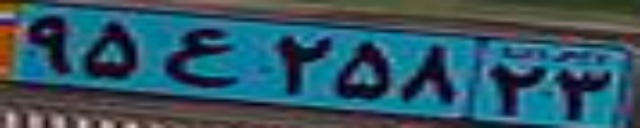2: (275, 34, 327, 95), (489, 63, 543, 117)
3: (554, 67, 610, 120)
5: (332, 39, 387, 100), (80, 21, 137, 79)
8: (395, 43, 456, 105)
9: (24, 14, 70, 74)
ain: (158, 27, 239, 88)
